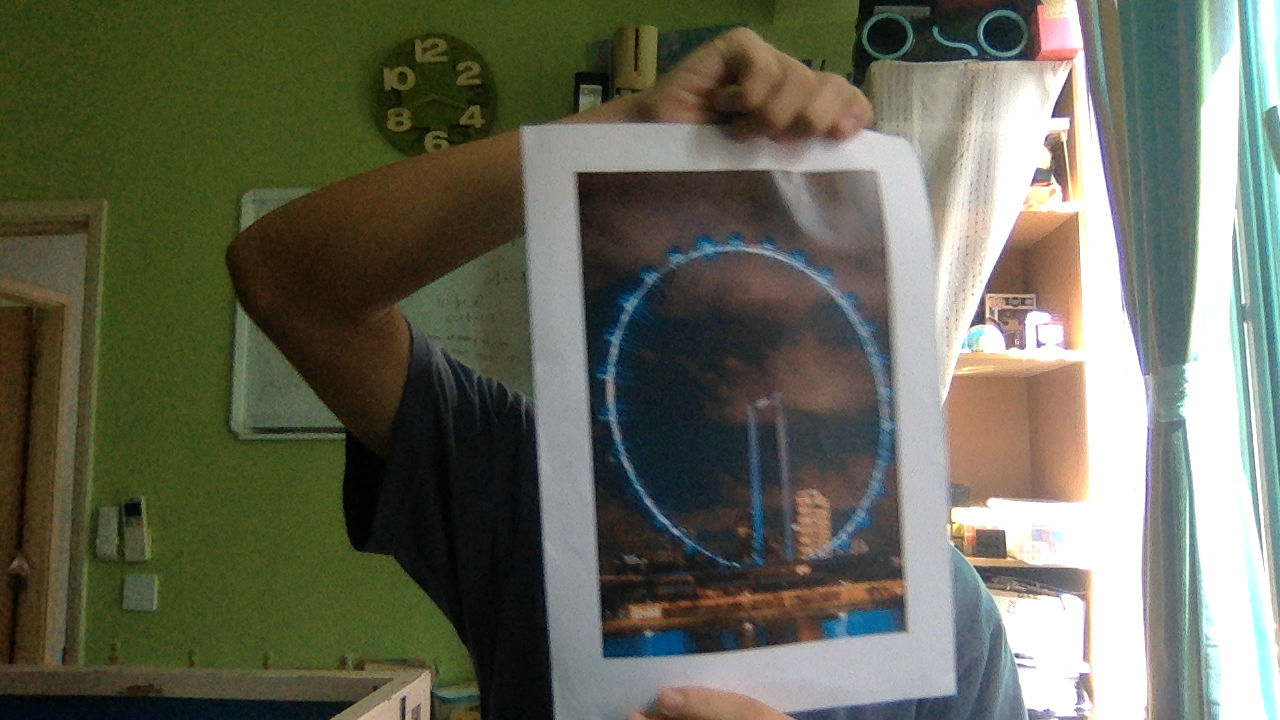Flyer: (576, 173, 909, 641)
